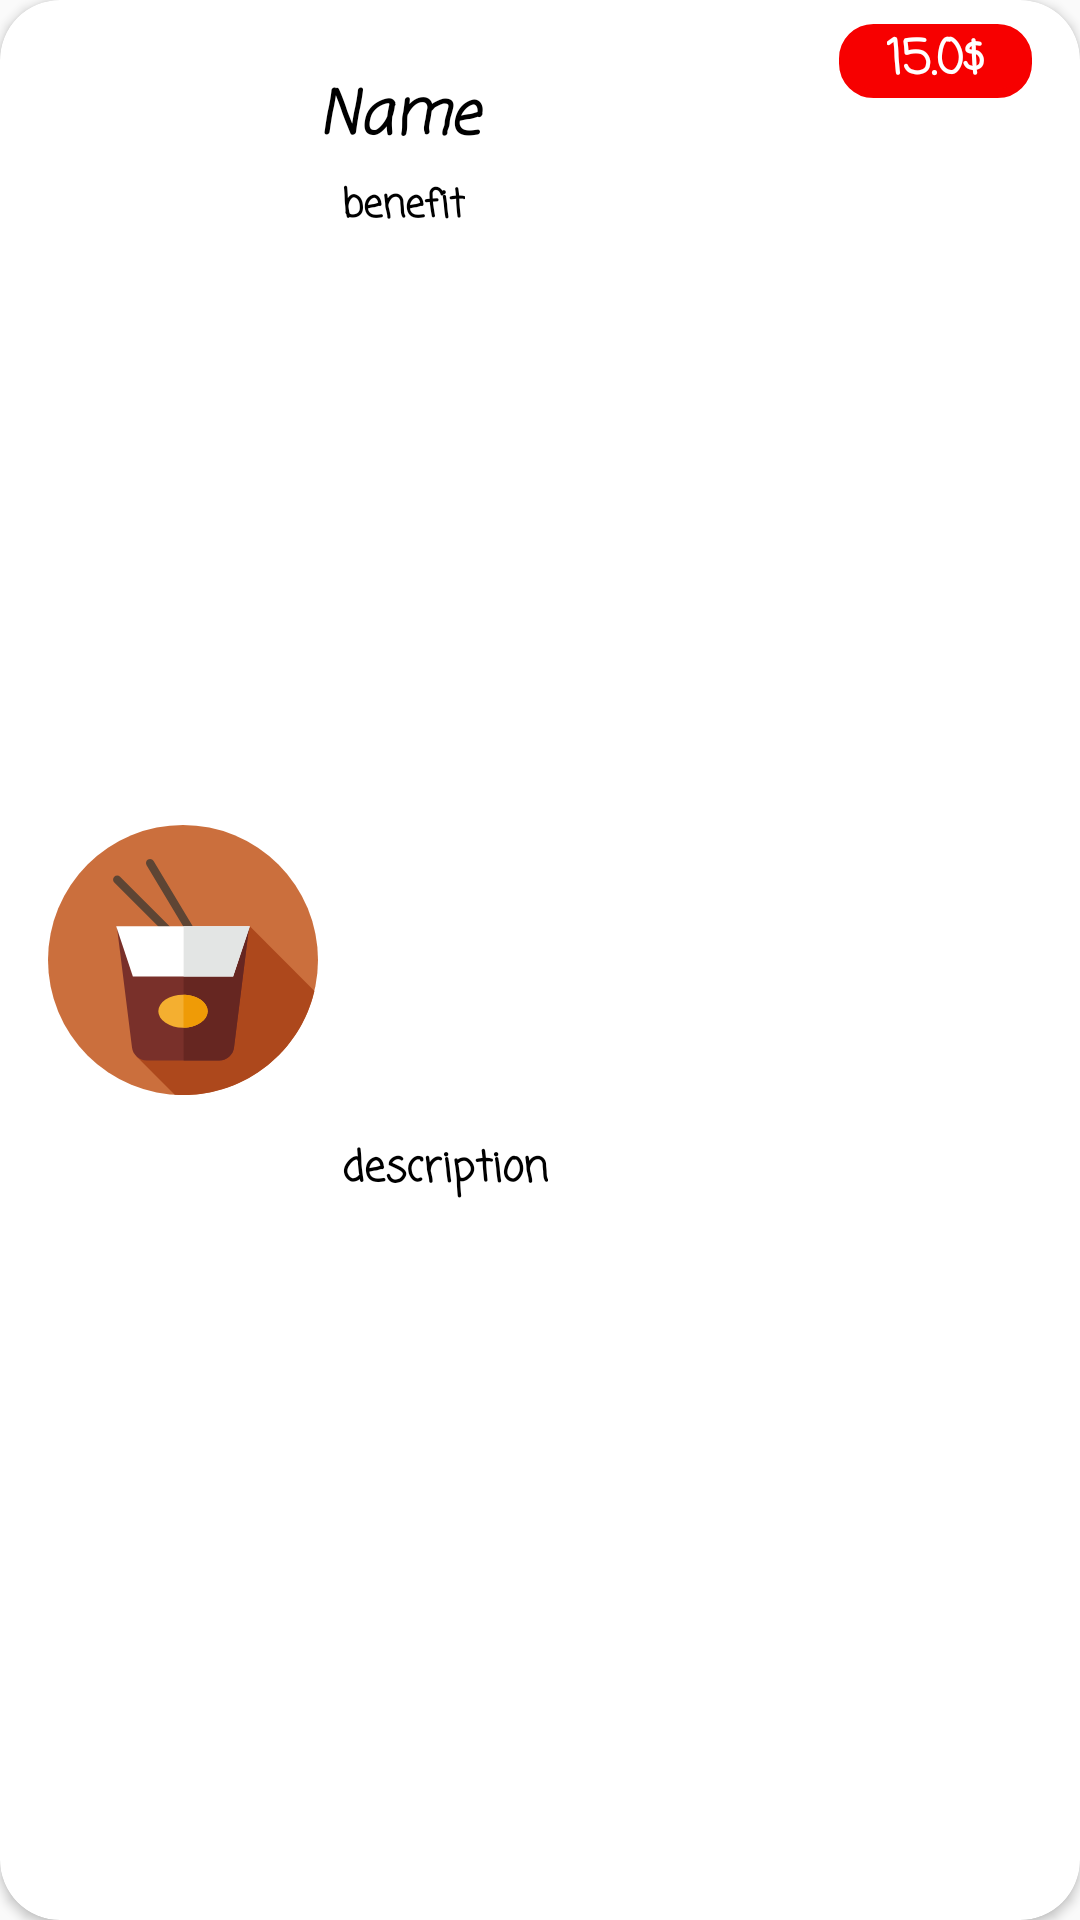

Icons on this 1080 x 1920 Android screen, each with its box as (x1, y1, x2, y2):
noodles: (48, 825, 318, 1095)
